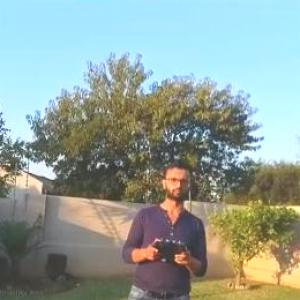follow: (116, 148, 215, 299)
